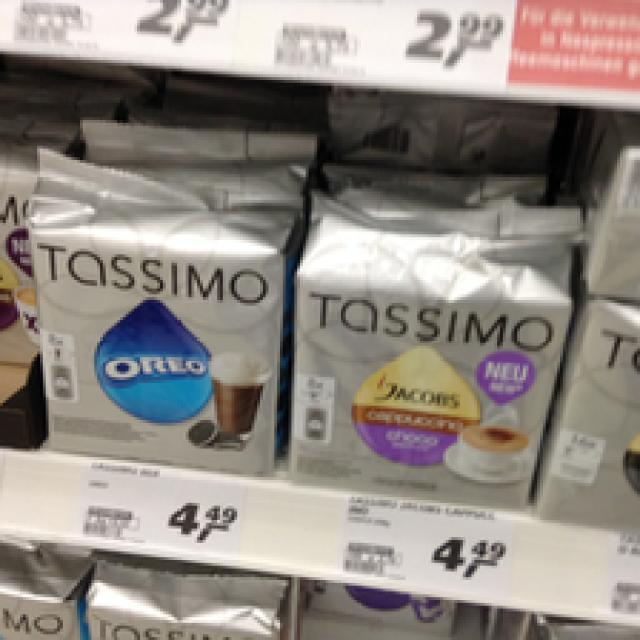groceries: (286, 165, 574, 506), (23, 140, 300, 474)
